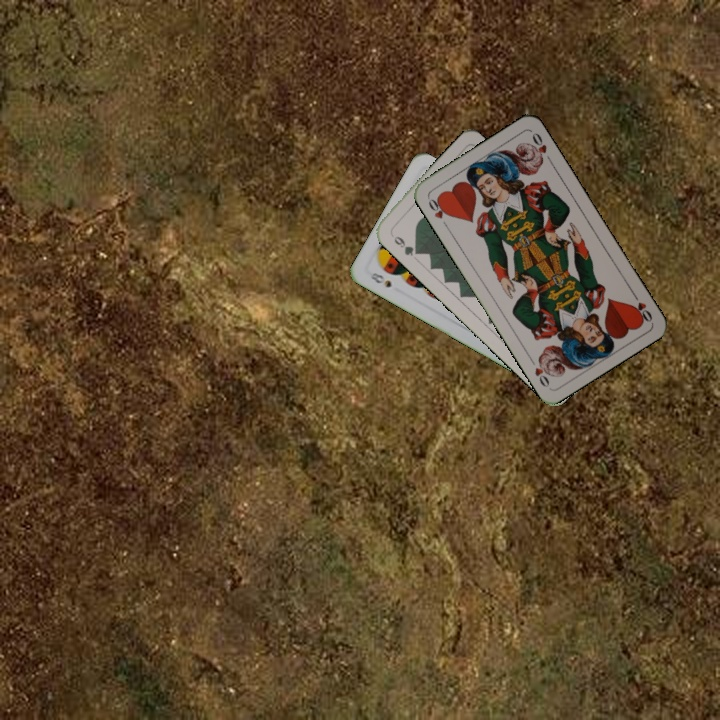G9: (390, 232, 423, 259)
HO: (424, 193, 452, 230), (628, 288, 655, 325)
S8: (366, 267, 394, 290)
